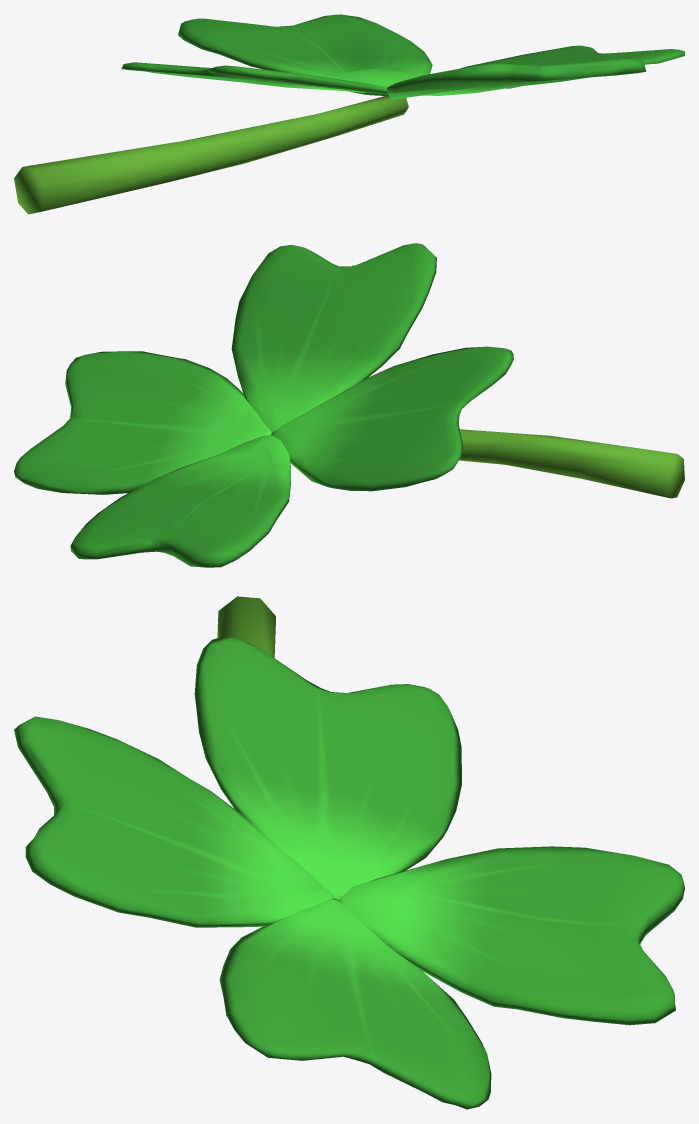
Rendered from Trevo.fbx.
The picture shows the model from 3 angles, top to bottom: view 1: azimuth 30°, elevation 25°; view 2: azimuth 150°, elevation 25°; view 3: azimuth 270°, elevation 25°; orthographic projection. The views are drawn at different scales.
Visible parts, largest first — view 1: Trevo - Low; view 2: Trevo - Low; view 3: Trevo - Low.
Part boxes in pixels (bbox=[...]): Trevo - Low: bbox=[14, 14, 684, 214]; Trevo - Low: bbox=[14, 243, 684, 567]; Trevo - Low: bbox=[14, 596, 684, 1109].
Size of the model in its own units: 168 by 45.51 by 120.
